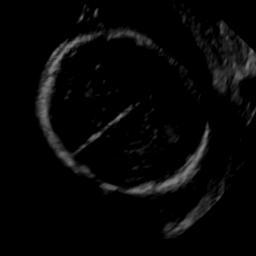normal: (2, 0, 244, 246)
